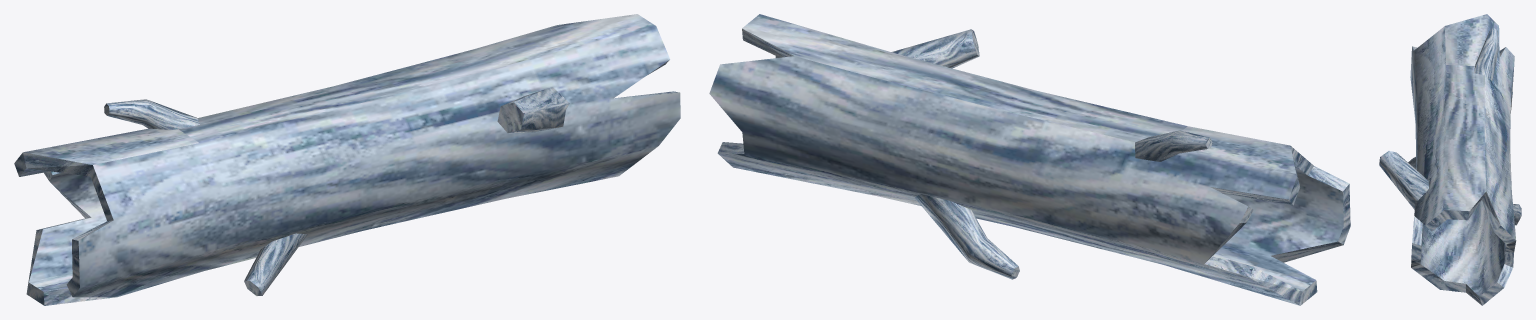
3 renders of one model, left to right at view 1: azimuth 30°, elevation 25°; view 2: azimuth 150°, elevation 25°; view 3: azimuth 270°, elevation 25°, orthographic. The views are drawn at different scales.
Parts seen in each view (by area): view 1: Object29; view 2: Object29; view 3: Object29.
Boxes of the visible parts, x1,y1,x2,y2 form: Object29: (14,14,680,305); Object29: (709,14,1350,305); Object29: (1379,14,1521,305).
Size of the model in its own units: 22673 by 6572 by 6903.
